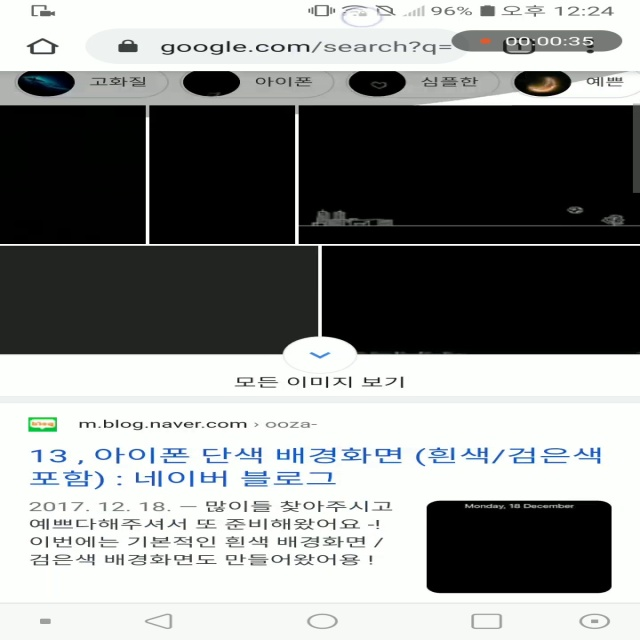Cursor: (340, 7, 384, 29)
